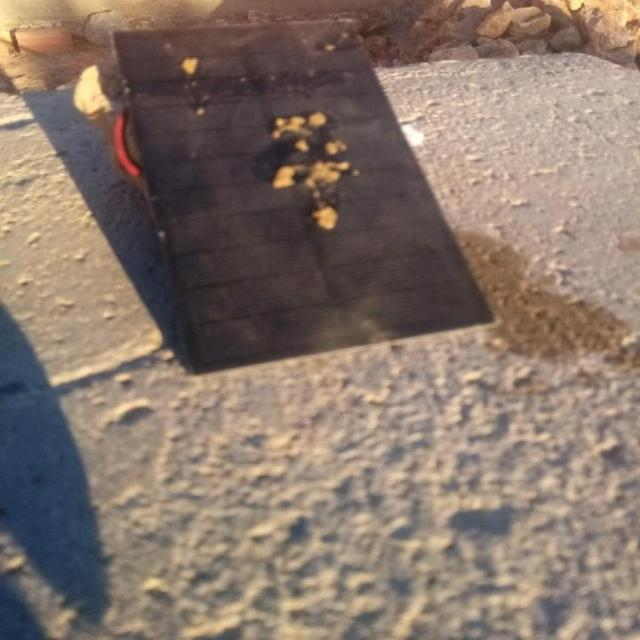faulty: (122, 24, 460, 353)
